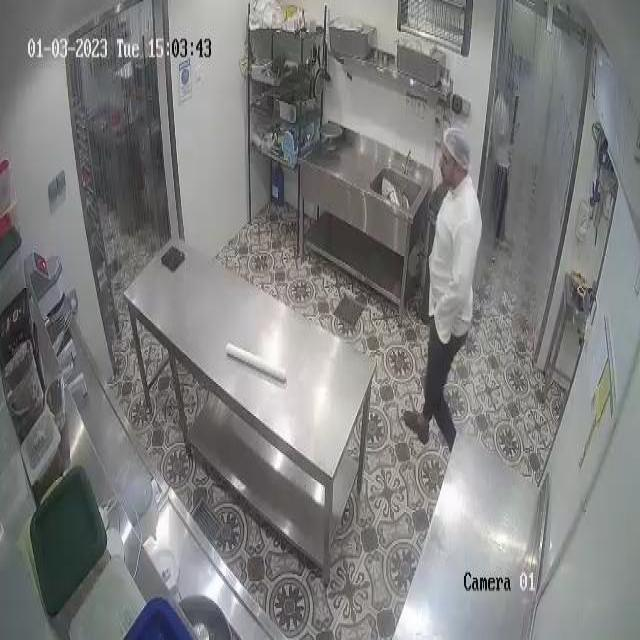hairnet: (443, 125, 472, 170)
